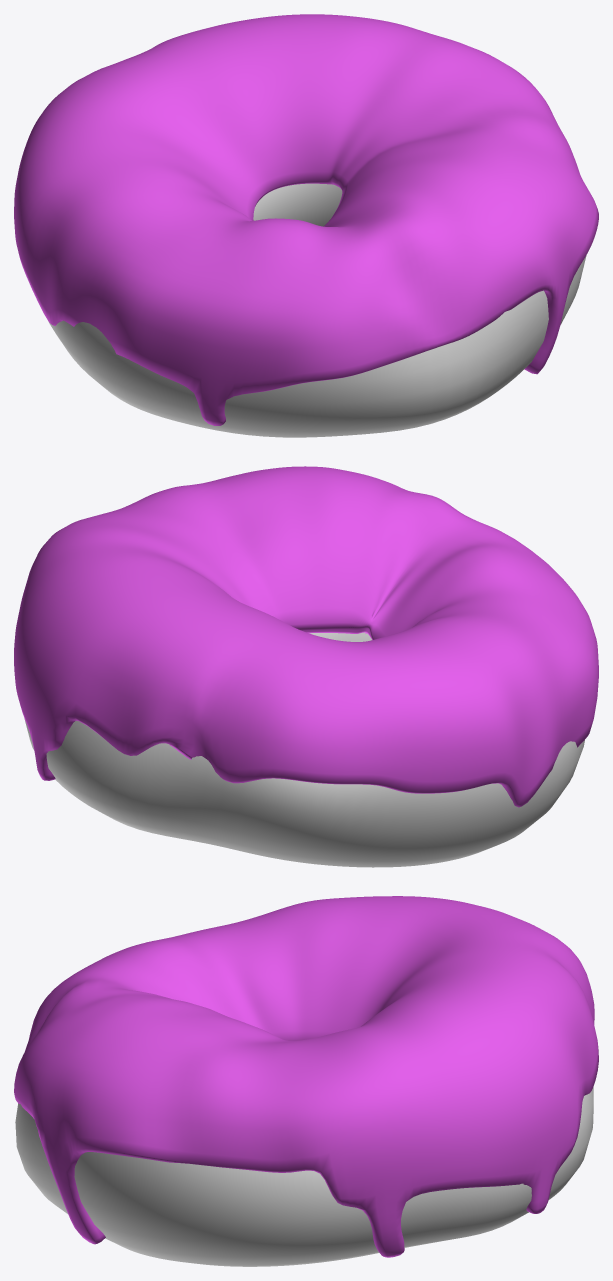
File: donut4.glb
3 renders of one model, top to bottom at view 1: azimuth 30°, elevation 25°; view 2: azimuth 150°, elevation 25°; view 3: azimuth 270°, elevation 25°, orthographic. The views are drawn at different scales.
Parts seen in each view (by area): view 1: Torus.014, Torus.015; view 2: Torus.014, Torus.015; view 3: Torus.014, Torus.015.
Boxes of the visible parts, bbox=[...] form: Torus.014: bbox=[14, 14, 598, 425]; Torus.015: bbox=[49, 183, 586, 437]; Torus.014: bbox=[14, 466, 598, 807]; Torus.015: bbox=[24, 632, 584, 867]; Torus.014: bbox=[14, 896, 598, 1257]; Torus.015: bbox=[15, 1087, 593, 1266].
Bounding box in the file's own units: 0.4027 × 0.2034 × 0.4085.
